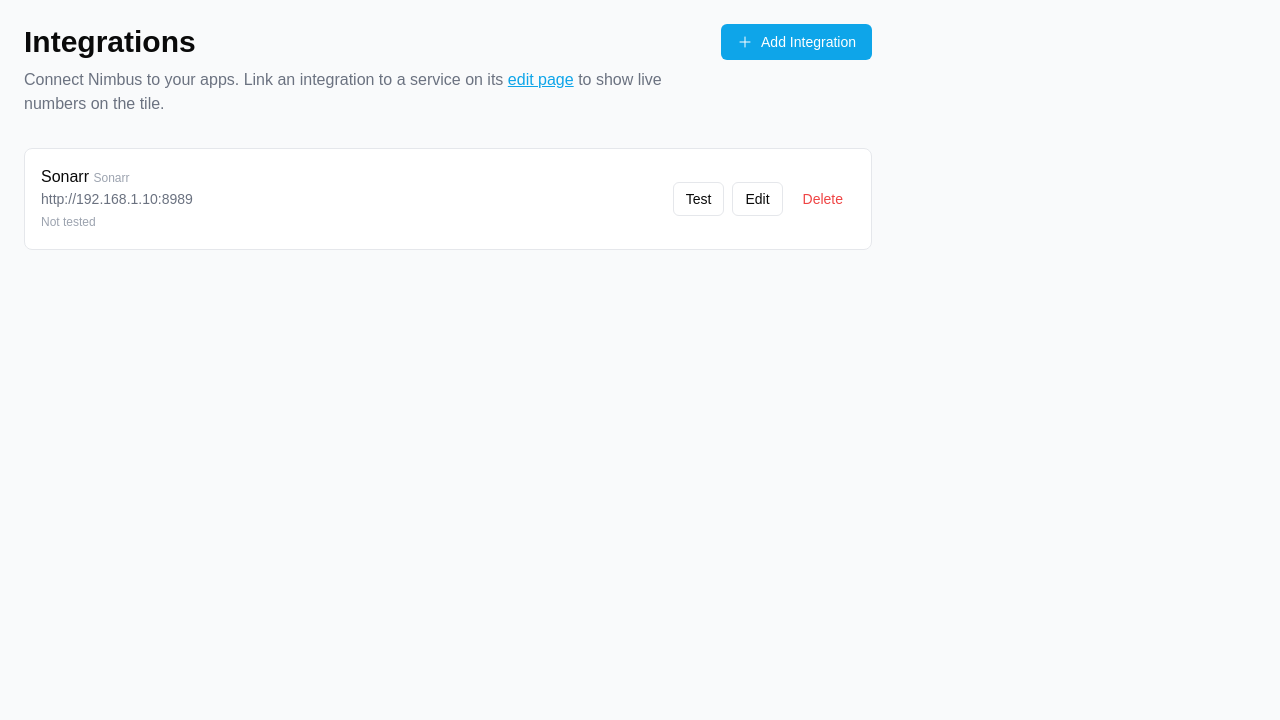
Test: IntegrationsPage › deletes after confirming
This screenshot has width=1280, height=720.
Click the button "Delete".
click(823, 199)  # box [790, 182, 855, 216]
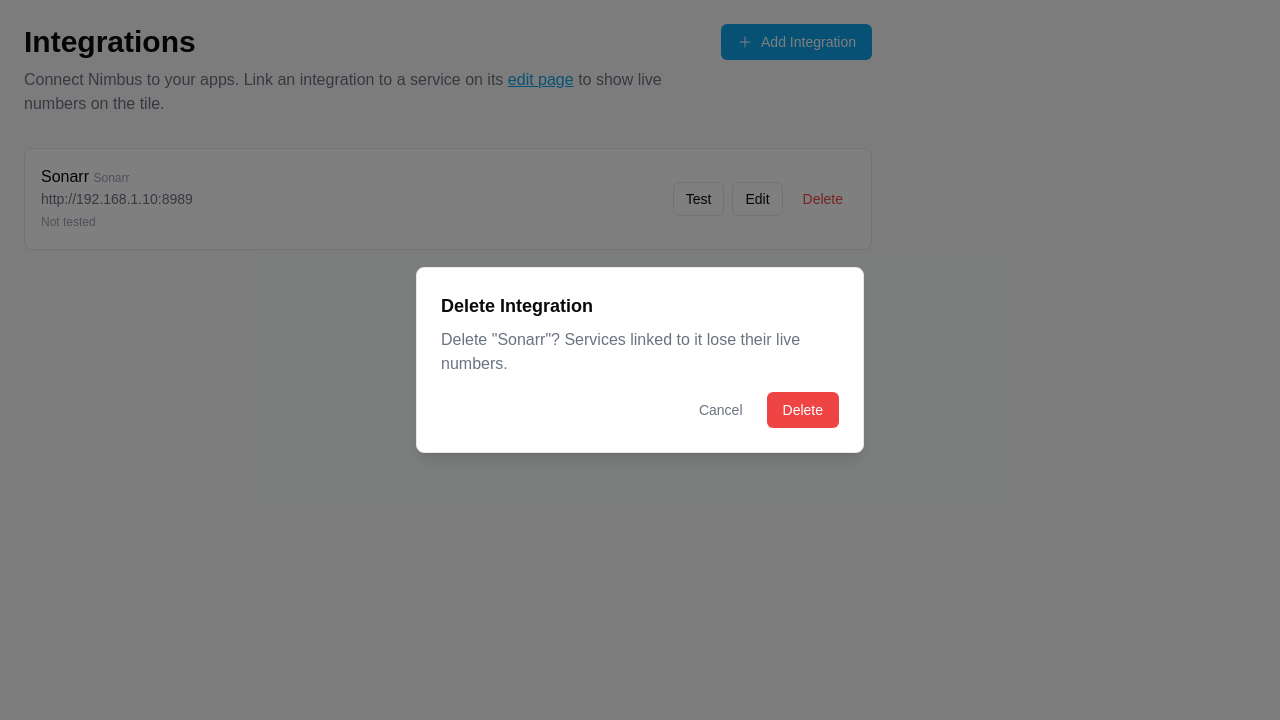
Click the button "Delete".
click(803, 410)  # box [766, 392, 839, 428]
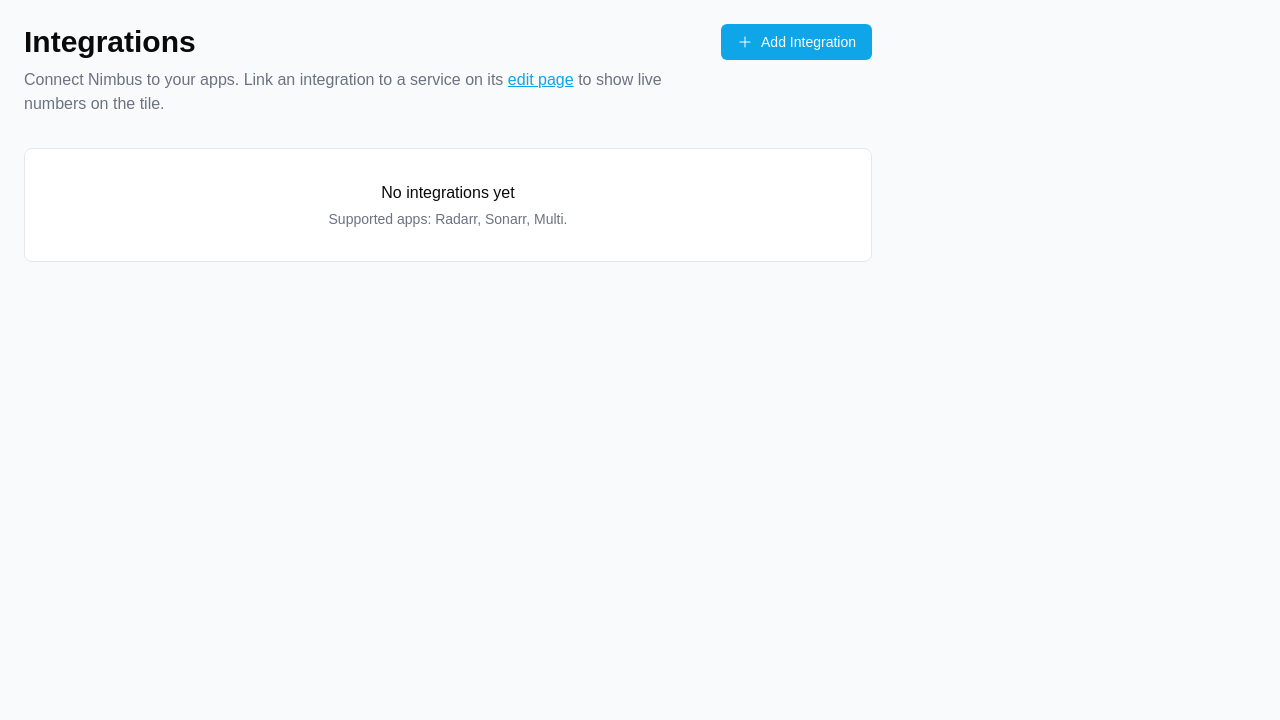
Result: the text "No integrations yet" is shown at [381, 184, 515, 201]
Result: the text "Supported apps: Radarr, Sonarr, Multi." is shown at [328, 211, 567, 227]
